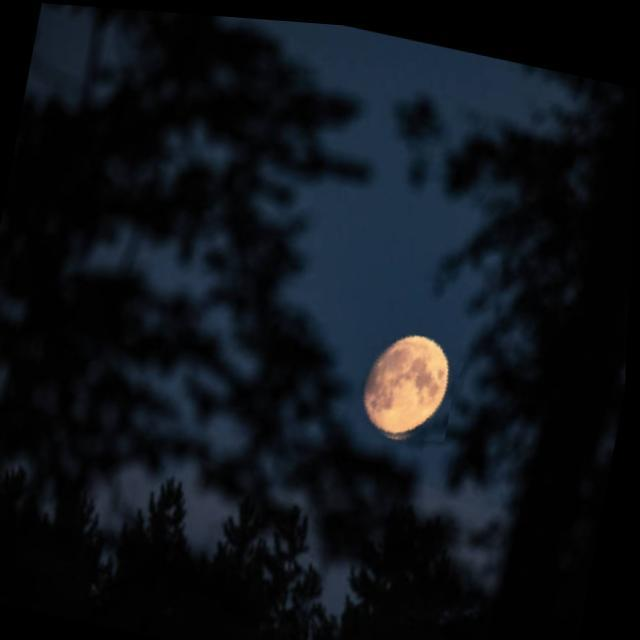moon: (352, 318, 465, 447)
